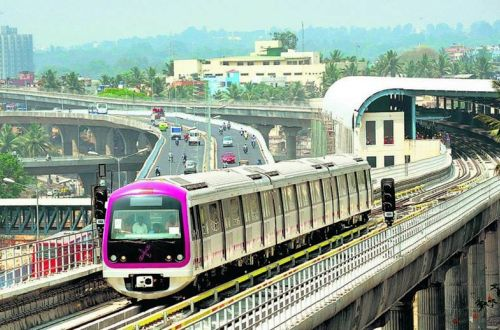car: (221, 133, 236, 163)
train: (105, 150, 388, 293)
